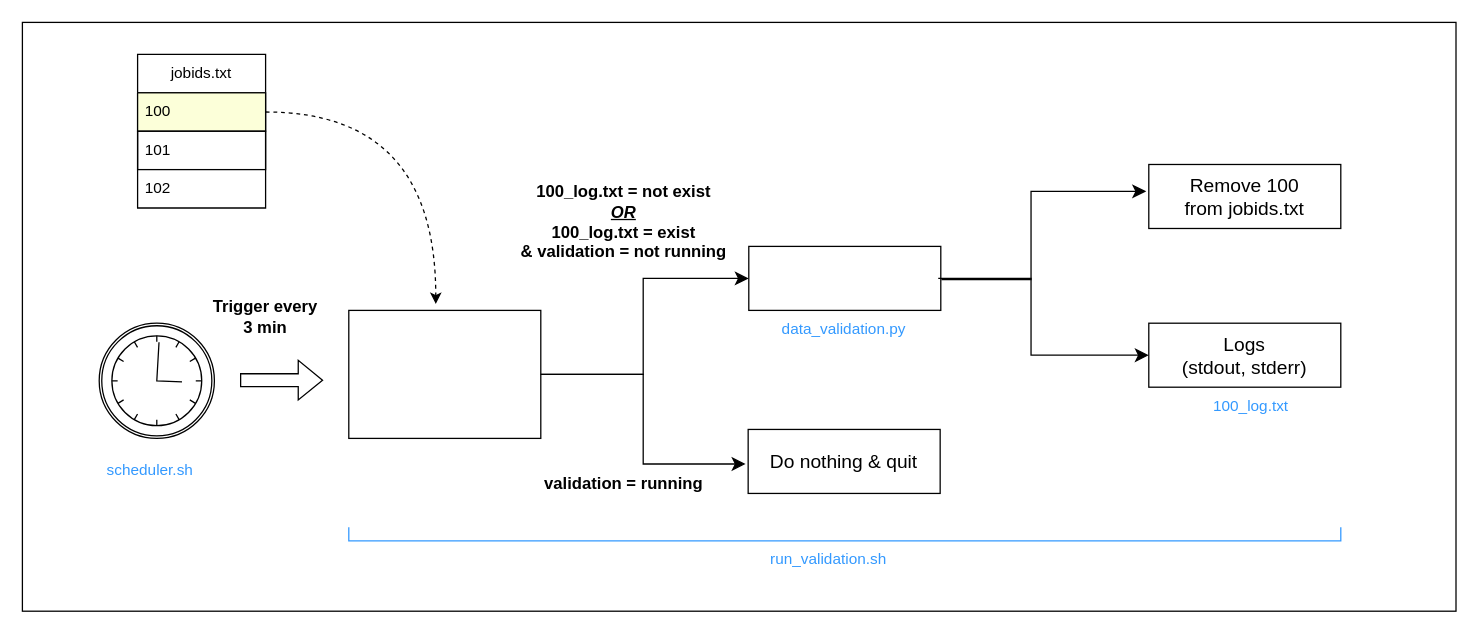
The diagram is 1478 pixels wide and 634 high, and some of its shapes have lost their labels. The shapes that lost their labels are listed below. From the top down, each one's centre as x and y in pixels, then its label:
(x=844, y=277): Start new validation job
(x=444, y=373): Checker (100_log.txt = exist?) (validation = running?)
